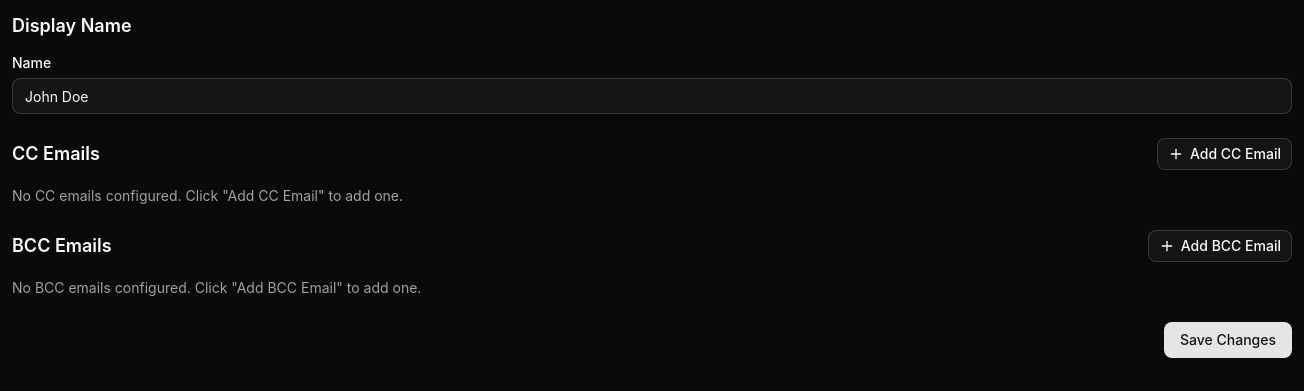
Test: ProfileForm › Dynamic Email Fields › adds BCC email field on [Add BCC Email] click
The image size is (1304, 391).
Check: the field with placeholder "email@example.com" is not shown
Click add button
Click the button "Add BCC Email". click: {"x": 1220, "y": 246}
box: [1148,230,1292,262]
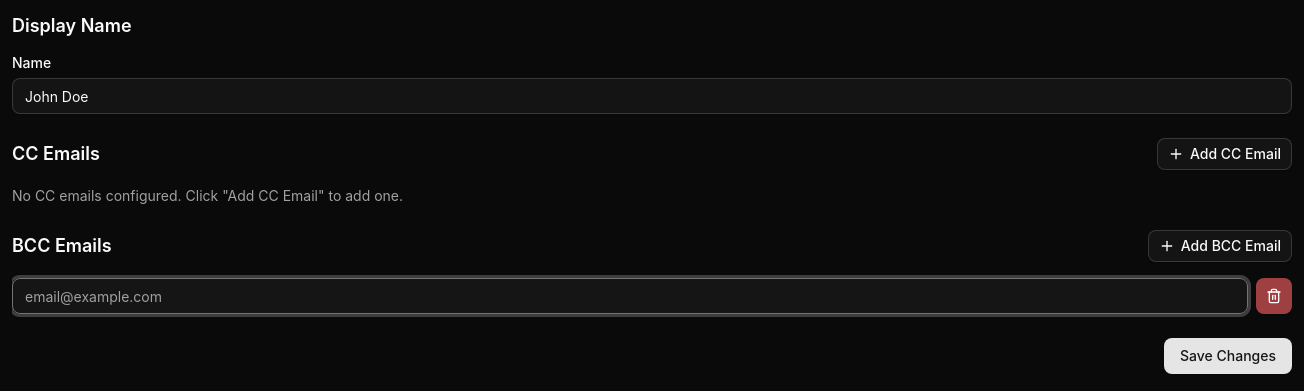
Check: the field with placeholder "email@example.com" is shown, box [12,278,1248,314]
